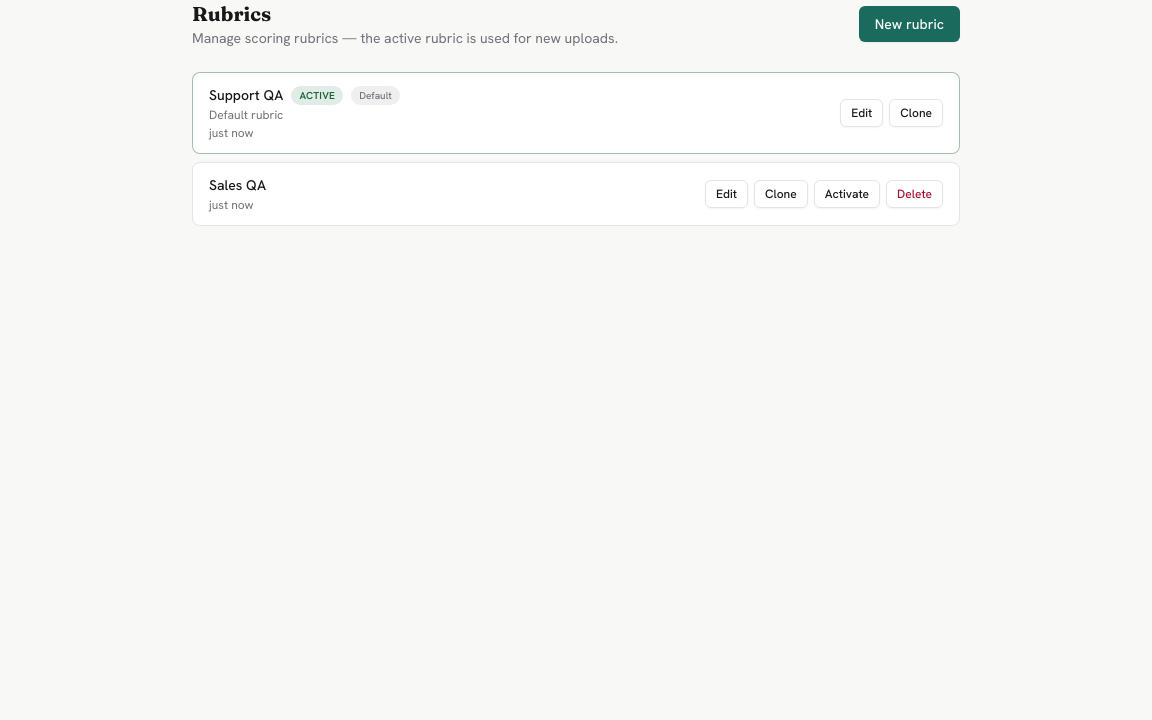
Test: RubricsPage › delete 409 shows the server's reason inline
The width and height of the screenshot is (1152, 720).
Expected: the element with test id "rubrics-list" is shown, [192,72,960,226]
What coordinates should you click on to do the following:
click the button with test id "delete-btn"
I would click on:
 (915, 194)
Its box is [886,180,943,208].
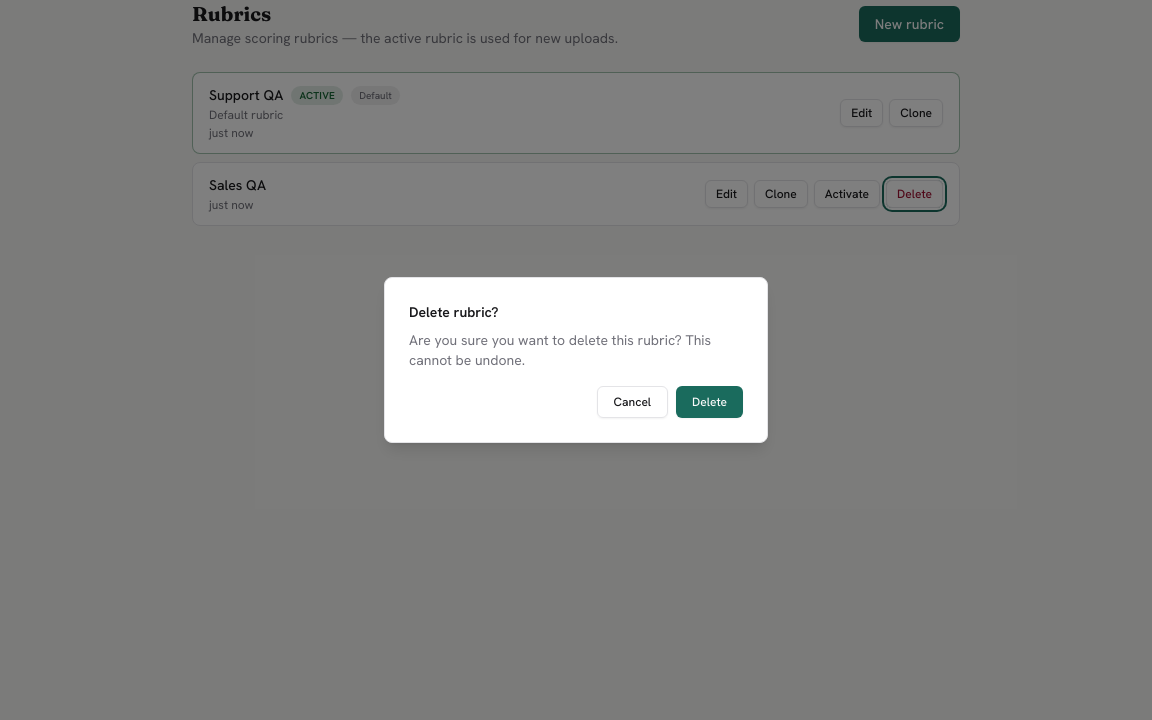
What coordinates should you click on to do the following:
click the button with test id "confirm-action"
I would click on:
 (710, 402)
Its box is [676,386,743,418].
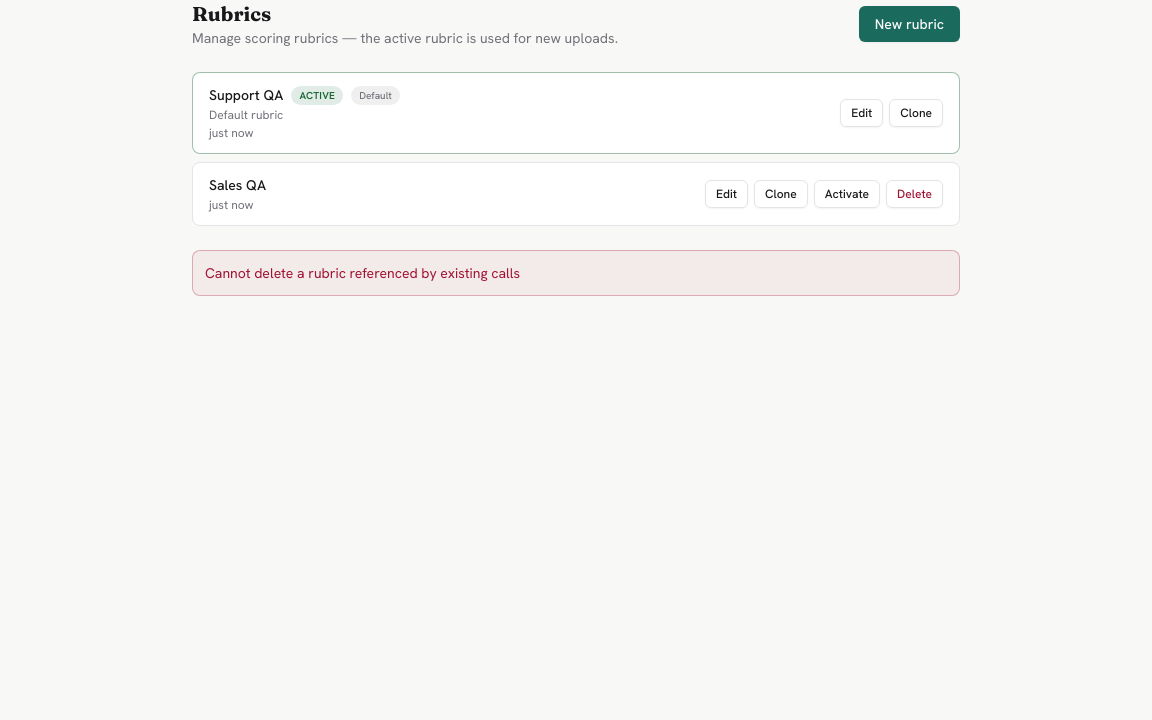
Expected: the text "Cannot delete a rubric referenced by existing calls" is shown, [192,250,960,296]
